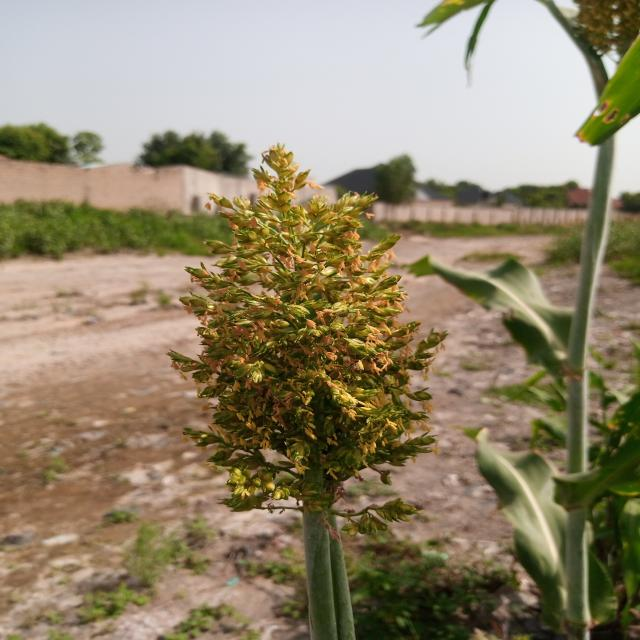UnripeSorghum: (172, 136, 478, 547)
